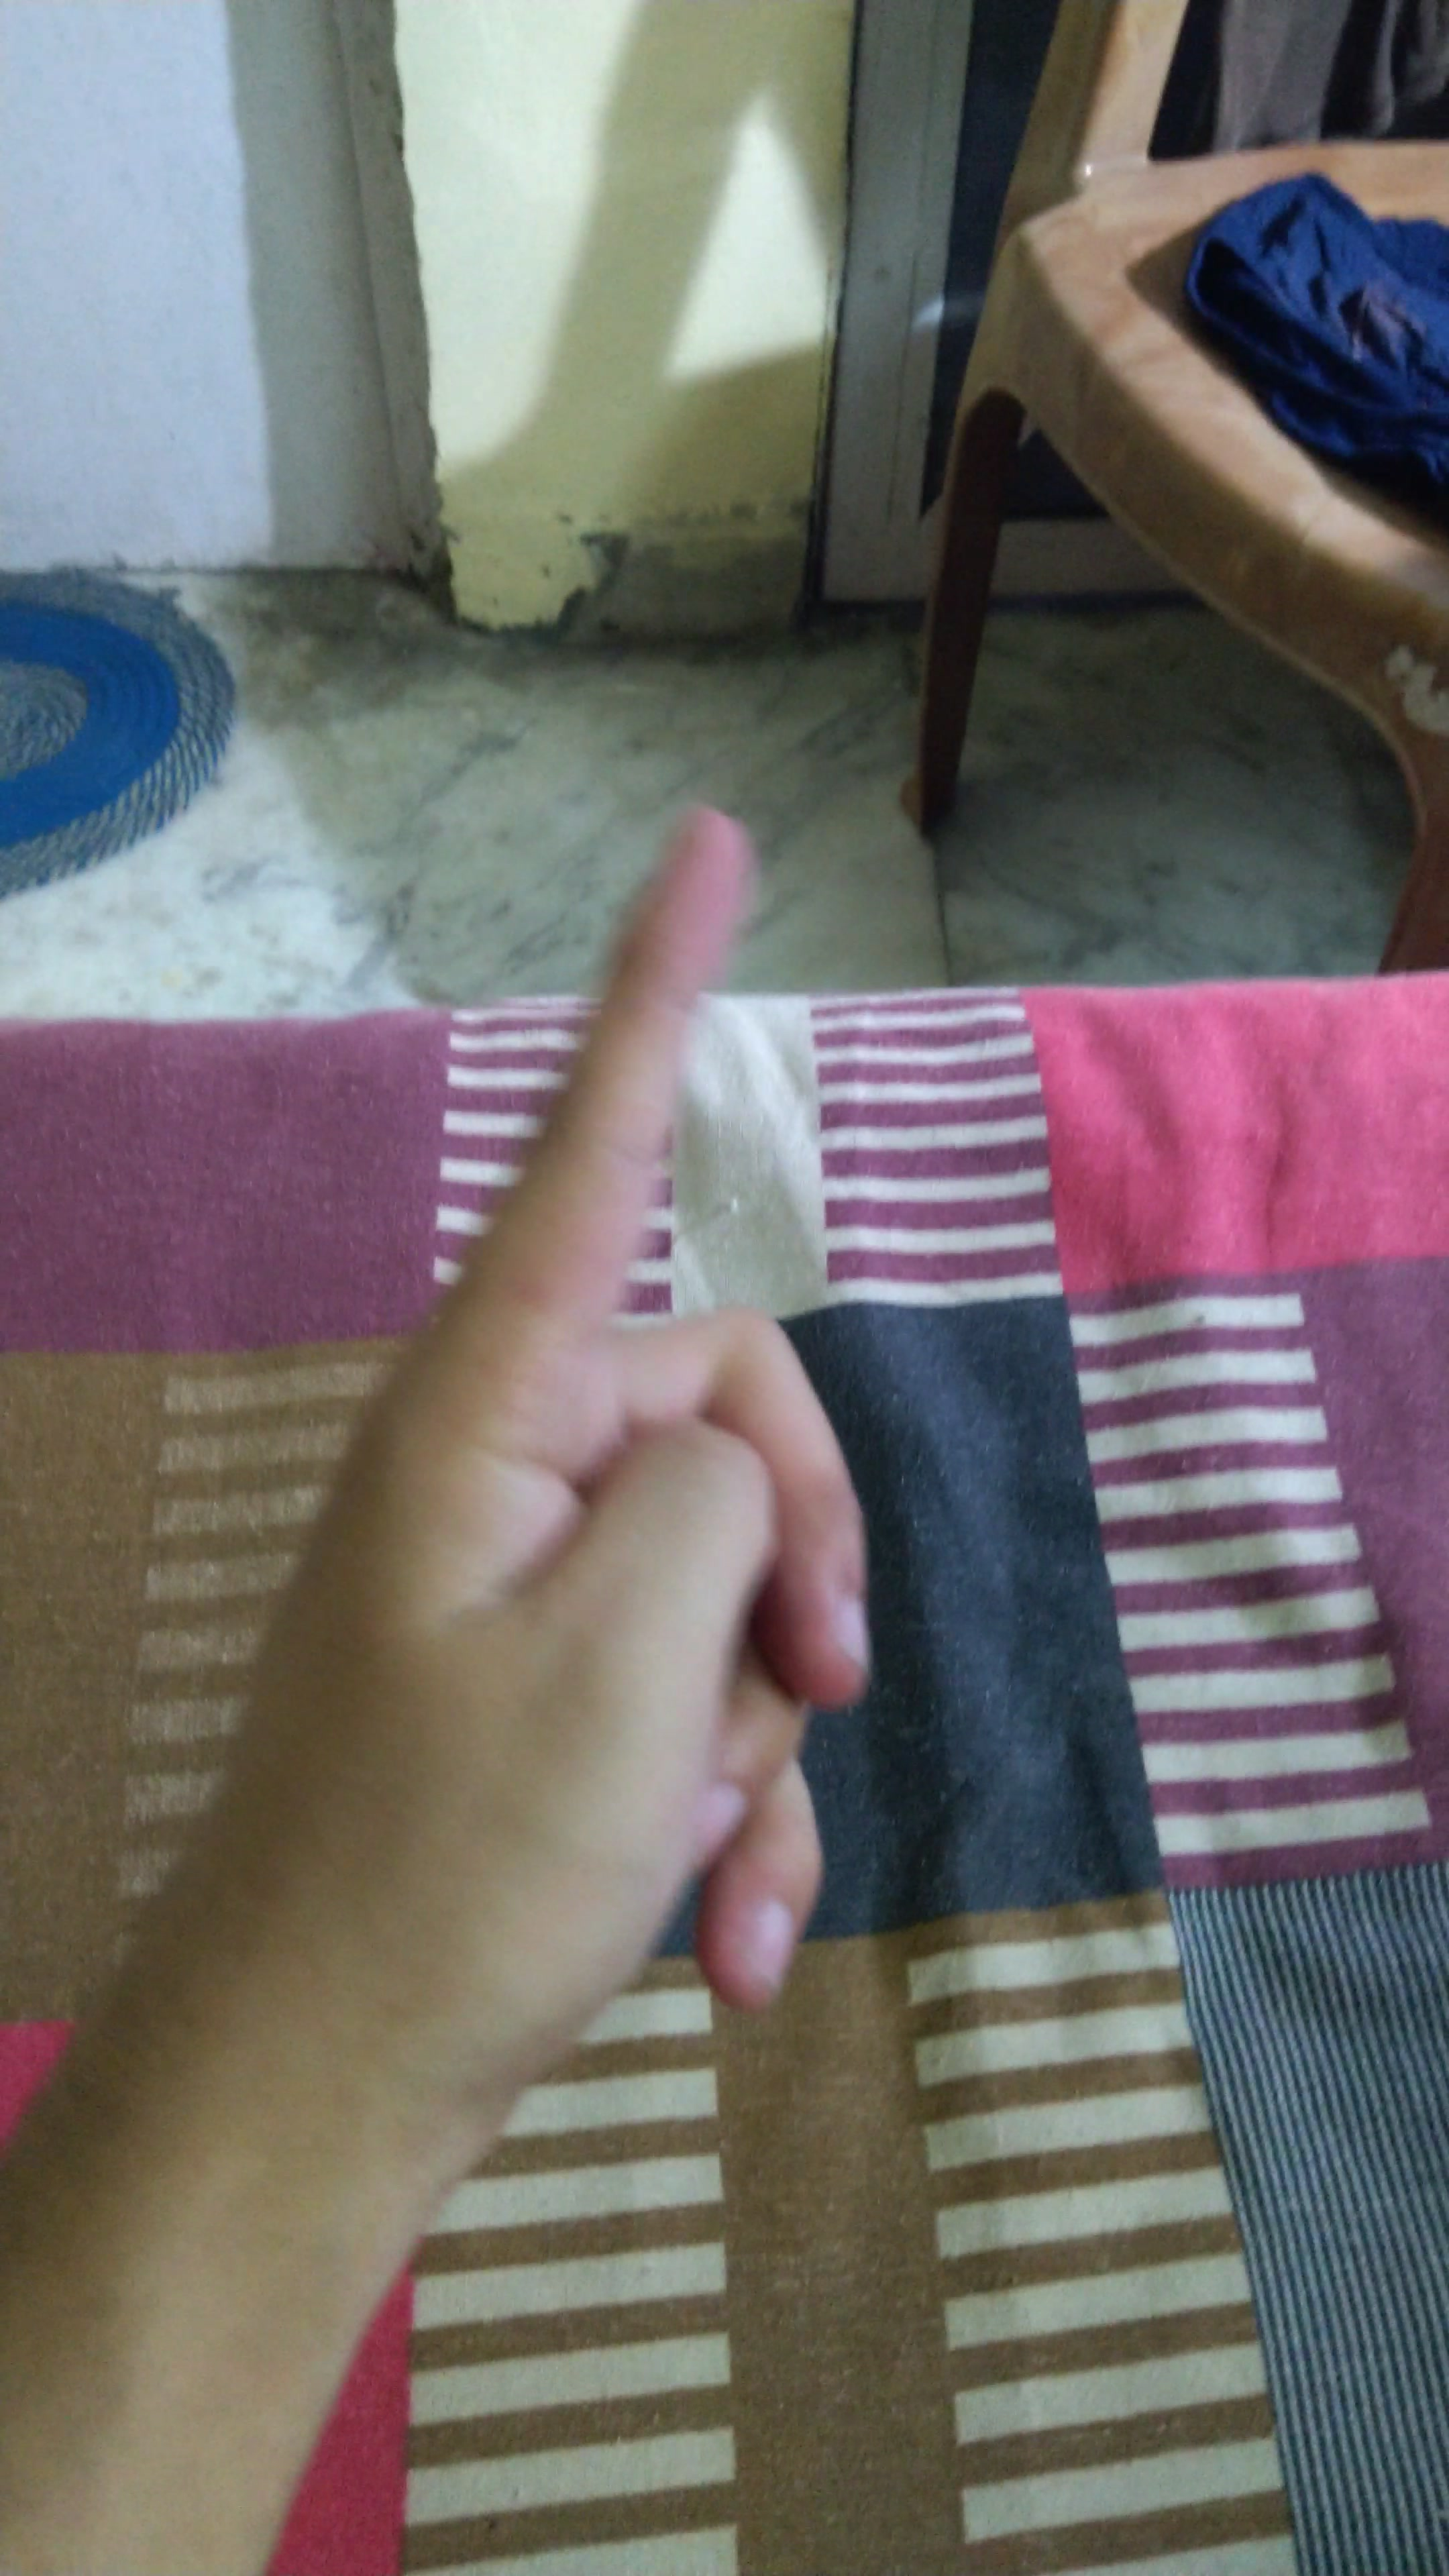hand: (189, 748, 985, 2203)
